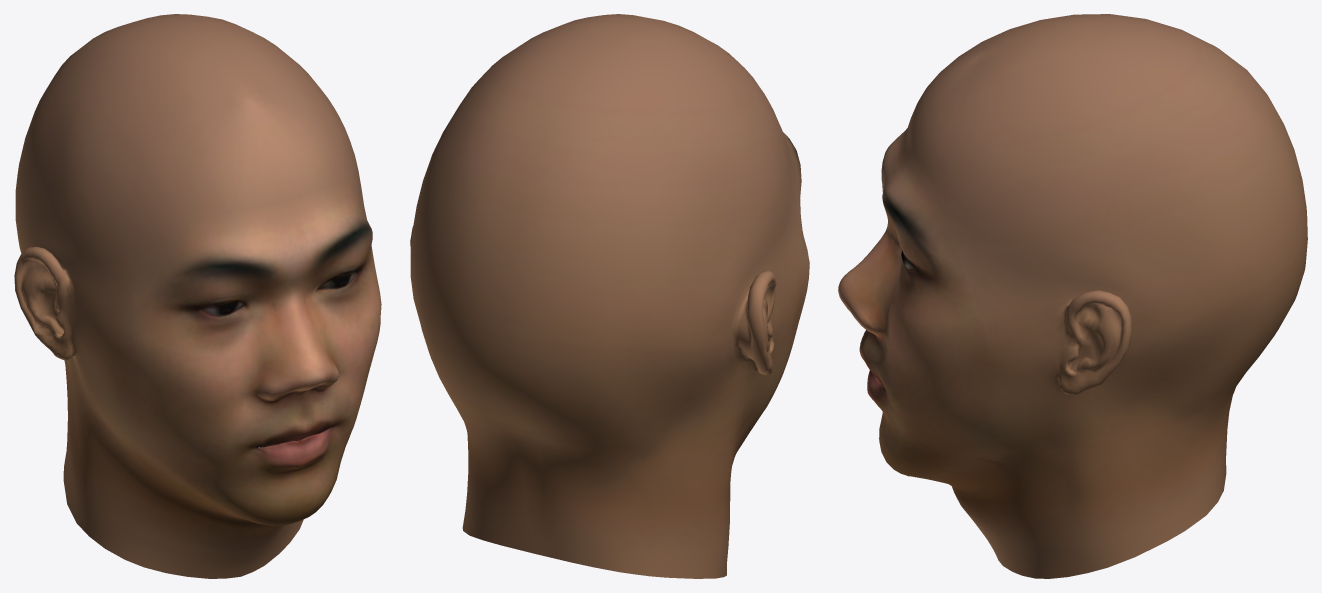
3 views of the same model, side by side, from view 1: azimuth 30°, elevation 25°; view 2: azimuth 150°, elevation 25°; view 3: azimuth 270°, elevation 25° (orthographic). The views are drawn at different scales.
Parts seen in each view (by area): view 1: HeadHires; view 2: HeadHires; view 3: HeadHires.
Boxes of the visible parts, x1=… form: HeadHires: x1=14, y1=14, x2=381, y2=578; HeadHires: x1=410, y1=14, x2=809, y2=578; HeadHires: x1=838, y1=14, x2=1307, y2=578.
Bounding box in the file's own units: 190 × 283 × 229.
1 material, 1 textured.
